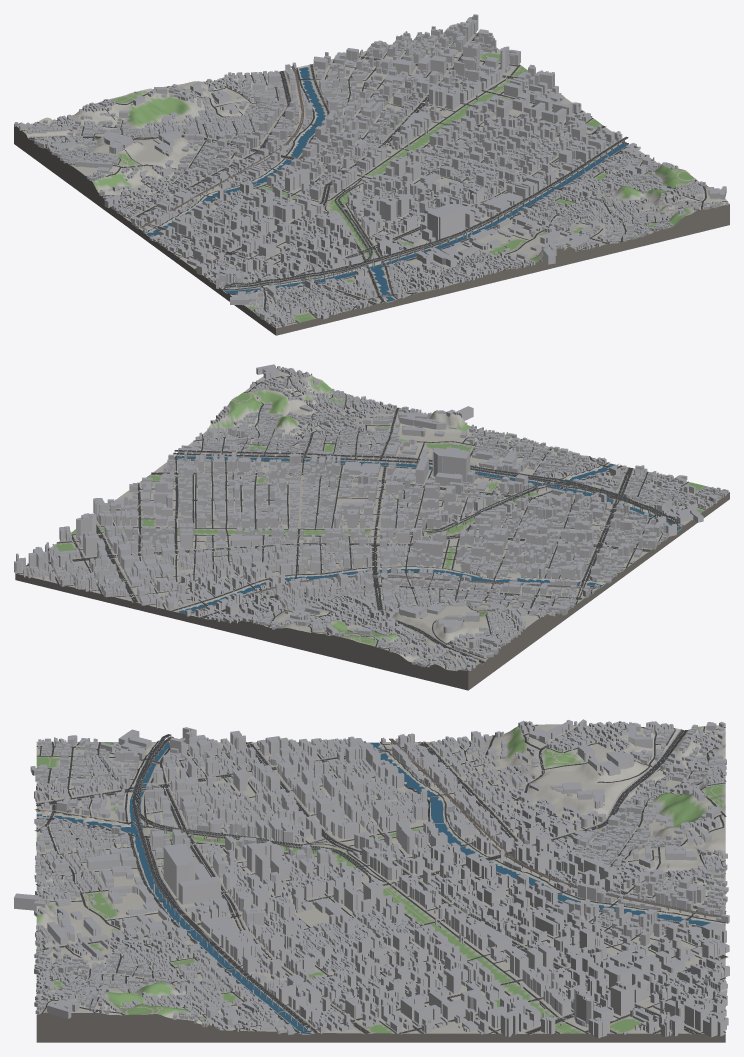
File: bandobashi_all.glb
3 renders of one model, top to bottom at view 1: azimuth 30°, elevation 25°; view 2: azimuth 150°, elevation 25°; view 3: azimuth 270°, elevation 25°, orthographic. The views are drawn at different scales.
Visible parts, largest first — view 1: building_53391520, building_53391429, terrain, road_surface, building_53391530, building_53391439, building_53391510, building_53391419, terrain_skirt, water, road_sidewalk, structure_viaduct (+2 smaller); view 2: building_53391520, building_53391429, terrain, road_surface, building_53391530, terrain_skirt, building_53391510, building_53391439, building_53391419, road_sidewalk, structure_viaduct, road_footpath (+1 smaller); view 3: building_53391520, building_53391429, terrain, building_53391530, road_surface, building_53391439, building_53391419, building_53391510, terrain_skirt, road_sidewalk, water, road_footpath (+2 smaller).
Part boxes in pixels (x1=…): building_53391520: x1=291, y1=46, x2=678, y2=240; building_53391429: x1=68, y1=116, x2=435, y2=288; terrain: x1=17, y1=32, x2=729, y2=328; road_surface: x1=18, y1=33, x2=727, y2=326; building_53391530: x1=236, y1=14, x2=520, y2=120; building_53391439: x1=14, y1=72, x2=280, y2=163; building_53391510: x1=464, y1=179, x2=727, y2=270; building_53391419: x1=230, y1=242, x2=499, y2=327; terrain_skirt: x1=14, y1=124, x2=729, y2=335; water: x1=146, y1=67, x2=628, y2=301; road_sidewalk: x1=28, y1=33, x2=625, y2=305; structure_viaduct: x1=140, y1=66, x2=628, y2=297; building_53391520: x1=76, y1=406, x2=470, y2=586; building_53391429: x1=303, y1=471, x2=676, y2=632; terrain: x1=15, y1=368, x2=729, y2=671; road_surface: x1=17, y1=369, x2=720, y2=670; building_53391530: x1=14, y1=526, x2=300, y2=623; terrain_skirt: x1=15, y1=492, x2=729, y2=690; building_53391510: x1=248, y1=364, x2=504, y2=462; building_53391439: x1=249, y1=584, x2=520, y2=670; building_53391419: x1=470, y1=432, x2=728, y2=522; road_sidewalk: x1=26, y1=407, x2=650, y2=661; structure_viaduct: x1=173, y1=451, x2=680, y2=613; road_footpath: x1=27, y1=388, x2=704, y2=667; building_53391520: x1=158, y1=843, x2=594, y2=1037; building_53391429: x1=162, y1=719, x2=594, y2=884; terrain: x1=36, y1=724, x2=725, y2=1034; building_53391530: x1=582, y1=870, x2=729, y2=1038; road_surface: x1=36, y1=724, x2=727, y2=1034; building_53391439: x1=584, y1=721, x2=727, y2=884; building_53391419: x1=30, y1=729, x2=168, y2=885; building_53391510: x1=14, y1=879, x2=165, y2=1018; terrain_skirt: x1=36, y1=1012, x2=725, y2=1042; road_sidewalk: x1=34, y1=724, x2=728, y2=1034; water: x1=36, y1=742, x2=710, y2=1033; road_footpath: x1=36, y1=729, x2=725, y2=1033.
Bounding box in the file's own units: 1562 × 98.61 × 1558.
